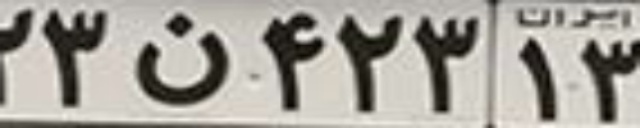1: (518, 37, 559, 120)
2: (336, 13, 401, 111), (0, 7, 36, 105)
3: (39, 9, 111, 106), (413, 14, 477, 114), (582, 37, 637, 122)
4: (260, 13, 324, 111)
non: (134, 11, 230, 103)
